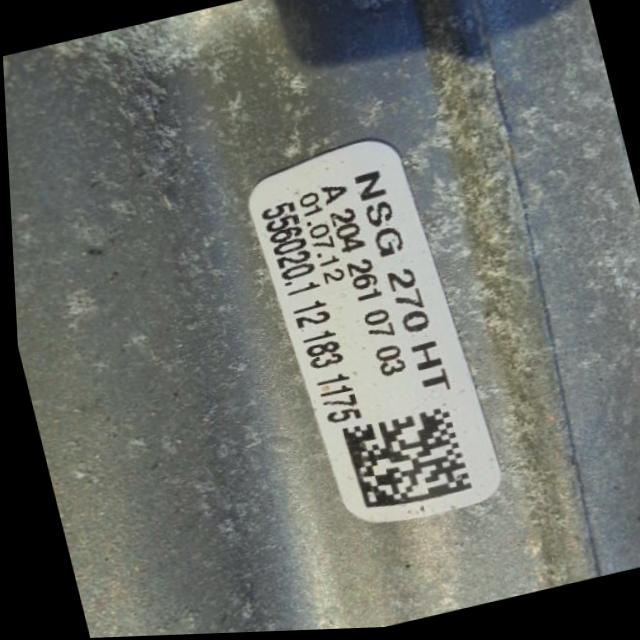datamatrix: (337, 407, 469, 519)
